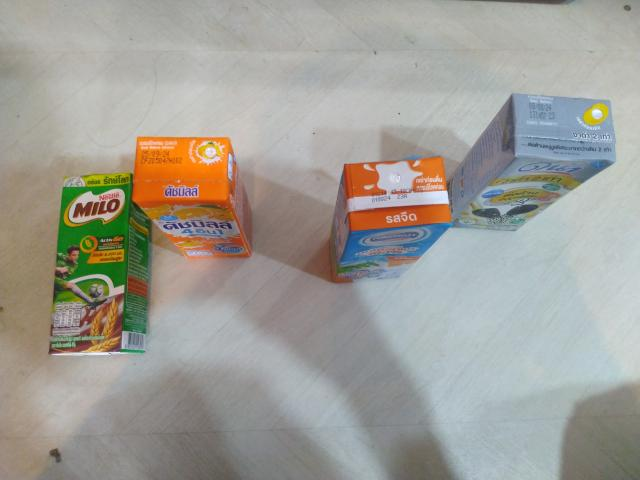drink_box: (452, 78, 626, 252), (44, 162, 142, 372), (321, 150, 454, 298), (132, 134, 265, 270)
